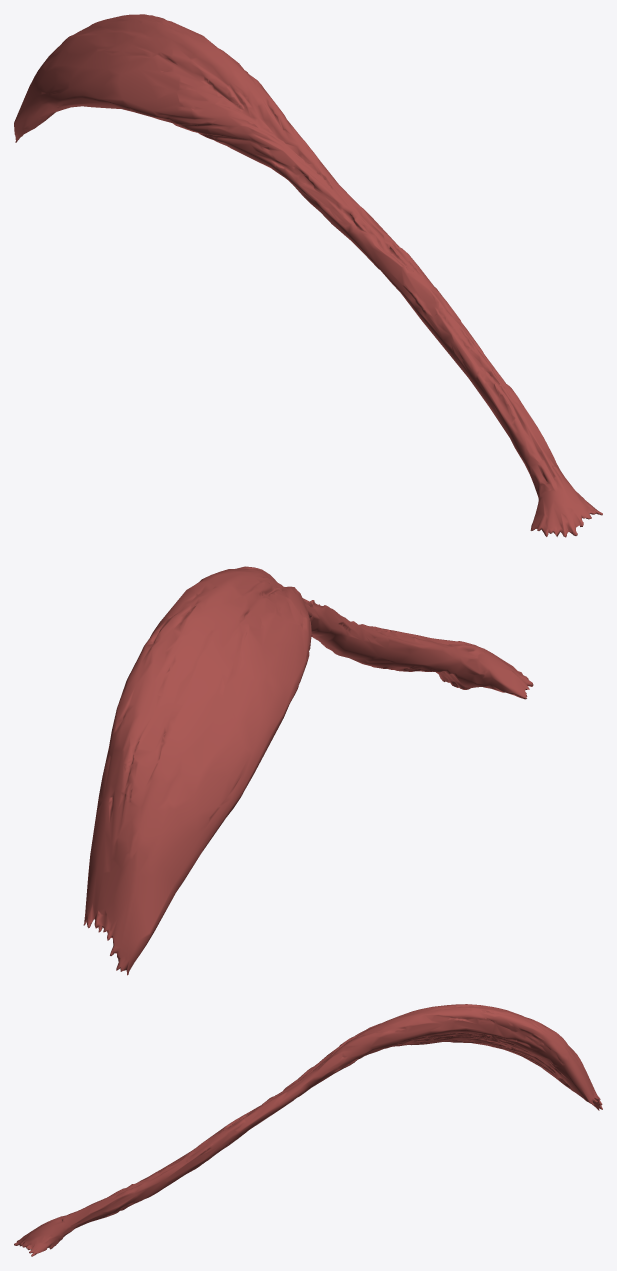
File: FMA51144.glb
3 views of the same model, one above another, from view 1: azimuth 30°, elevation 25°; view 2: azimuth 150°, elevation 25°; view 3: azimuth 270°, elevation 25° (orthographic). The views are drawn at different scales.
Visible parts, largest first — view 1: FMA51144; view 2: FMA51144; view 3: FMA51144.
Part boxes in pixels (x1=…): FMA51144: x1=14, y1=14, x2=602, y2=537; FMA51144: x1=83, y1=566, x2=533, y2=975; FMA51144: x1=14, y1=1004, x2=602, y2=1256.
Size of the model in its own units: 0.0328 by 0.0465 by 0.118.
